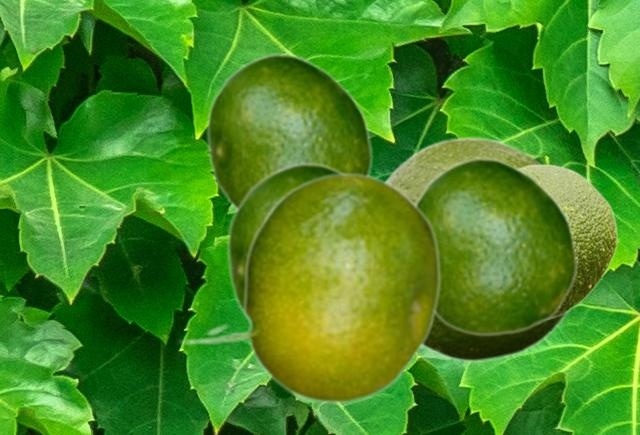calamansi: (177, 171, 440, 403), (385, 134, 570, 362), (413, 156, 578, 336), (205, 52, 373, 208), (225, 161, 344, 324), (520, 163, 617, 319)
